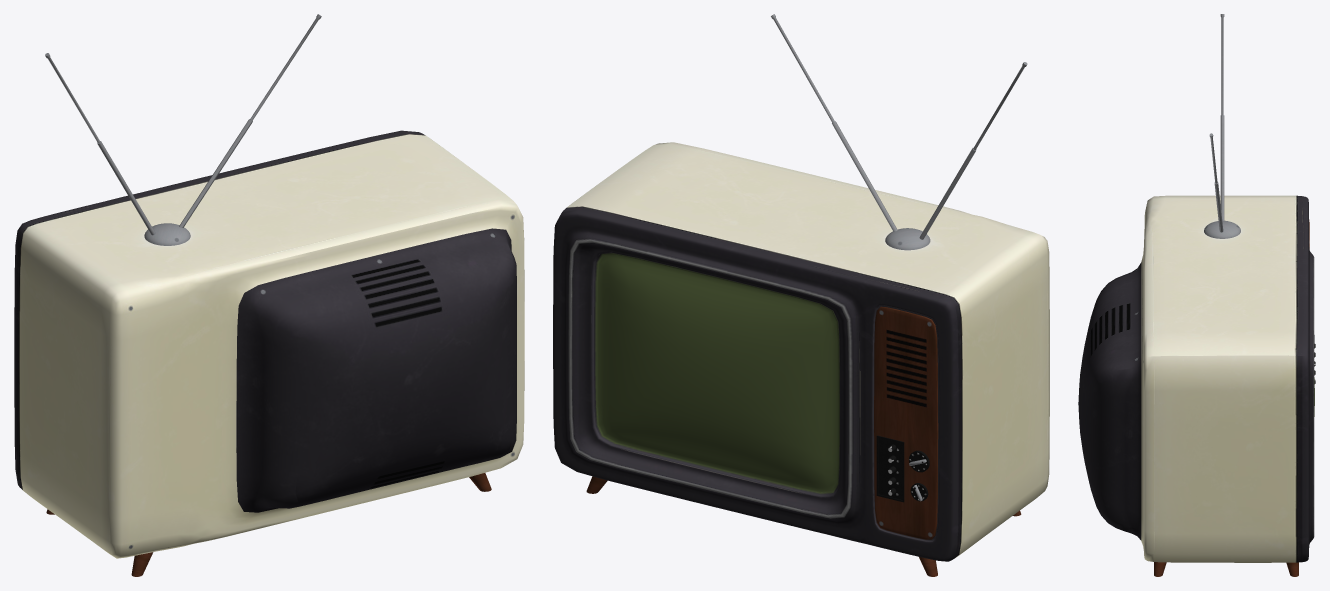
Rendered from retroTV.glb.
The picture shows the model from 3 angles, left to right: view 1: azimuth 30°, elevation 25°; view 2: azimuth 150°, elevation 25°; view 3: azimuth 270°, elevation 25°; orthographic projection. The views are drawn at different scales.
Visible parts, largest first — view 1: TV_Retro; view 2: TV_Retro; view 3: TV_Retro.
Part boxes in pixels (left/top/right/bottom): TV_Retro: left=14, top=14, right=524, bottom=576; TV_Retro: left=553, top=14, right=1049, bottom=576; TV_Retro: left=1078, top=14, right=1315, bottom=576.
Bounding box in the file's own units: 1.81 × 2 × 1.06.
Materials: 1 (1 with a texture image).
